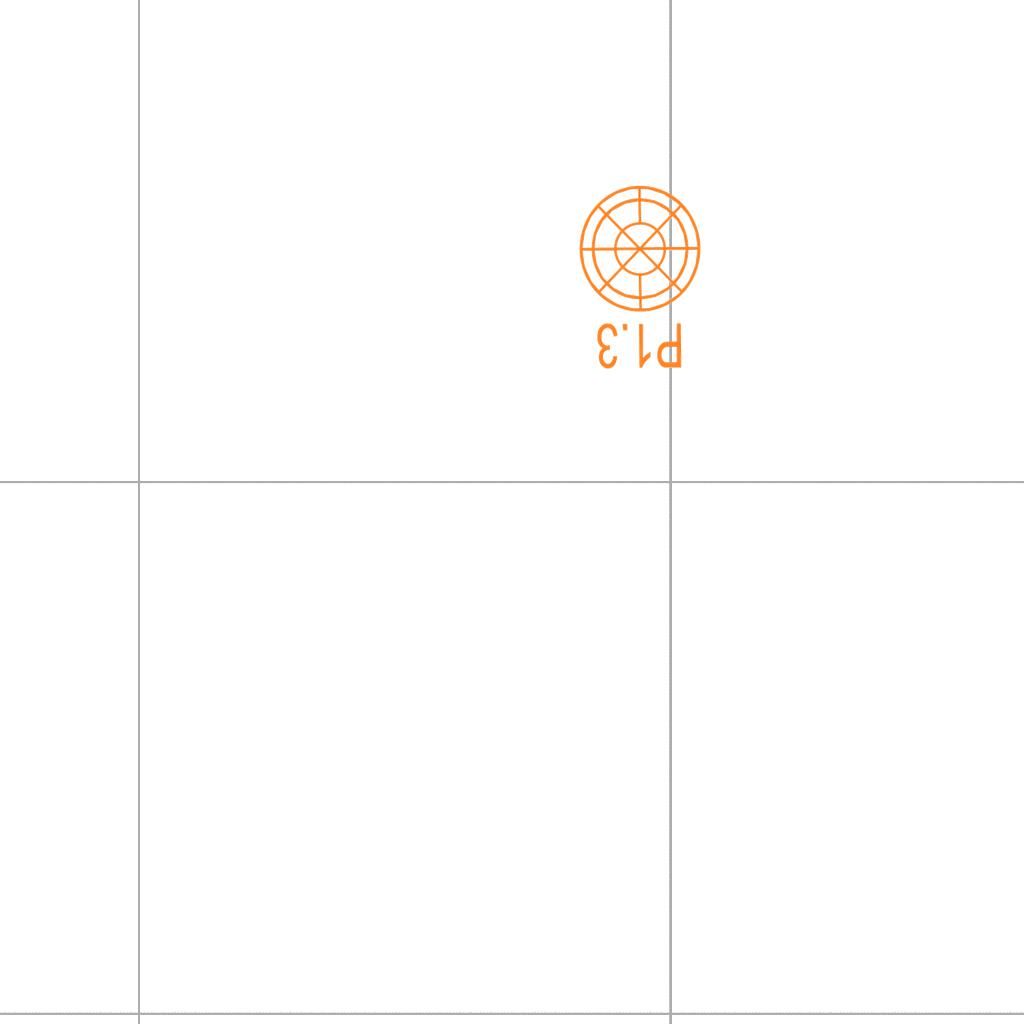Aufbaurundleuchte_LED_Treppenhaus: (565, 182, 704, 387)
